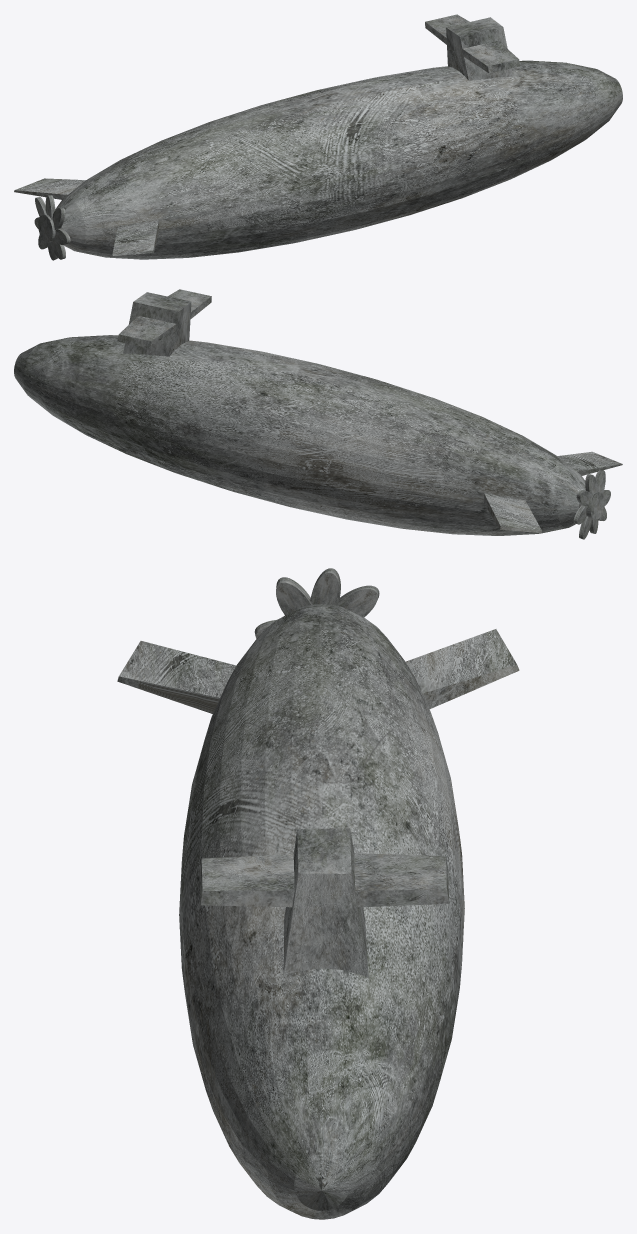
The model's file is Sub 3rd Person.fbx.
3 views of the same model, one above another, from view 1: azimuth 30°, elevation 25°; view 2: azimuth 150°, elevation 25°; view 3: azimuth 270°, elevation 25° (orthographic). The views are drawn at different scales.
Visible parts, largest first — view 1: Sub; view 2: Sub; view 3: Sub.
Boxes of the visible parts, x1,y1,x2,y2 form: Sub: [14, 14, 622, 260]; Sub: [14, 289, 622, 539]; Sub: [117, 568, 519, 1219].
Bounding box in the file's own units: 5100 × 1395 × 1542.
Materials: 4 (4 with a texture image).
